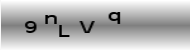9: (24, 20, 37, 33)
L: (57, 24, 70, 38)
V: (78, 19, 94, 34)
n: (44, 14, 58, 25)
q: (107, 10, 122, 25)
